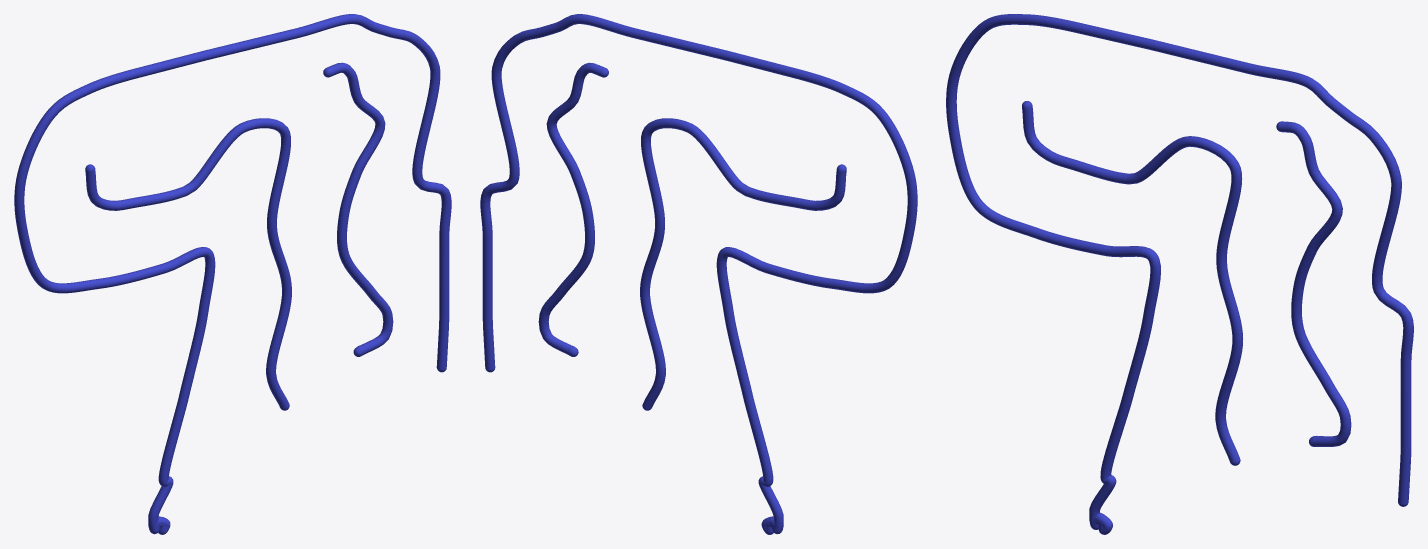
File: level10LINES.fbx
The picture shows the model from 3 angles, left to right: view 1: azimuth 30°, elevation 25°; view 2: azimuth 150°, elevation 25°; view 3: azimuth 330°, elevation 25°; orthographic projection. The views are drawn at different scales.
Visible parts, largest first — view 1: root (×2), node_id61; view 2: root (×2), node_id61; view 3: root (×2), node_id61.
Part boxes in pixels (bbox=[...]): root (×2): bbox=[14, 14, 451, 534]; node_id61: bbox=[323, 62, 393, 356]; root (×2): bbox=[480, 14, 917, 534]; node_id61: bbox=[538, 62, 608, 356]; root (×2): bbox=[946, 14, 1413, 534]; node_id61: bbox=[1276, 121, 1351, 446].
Bounding box in the file's own units: 0.7951 × 0.8276 × 0.0159.
